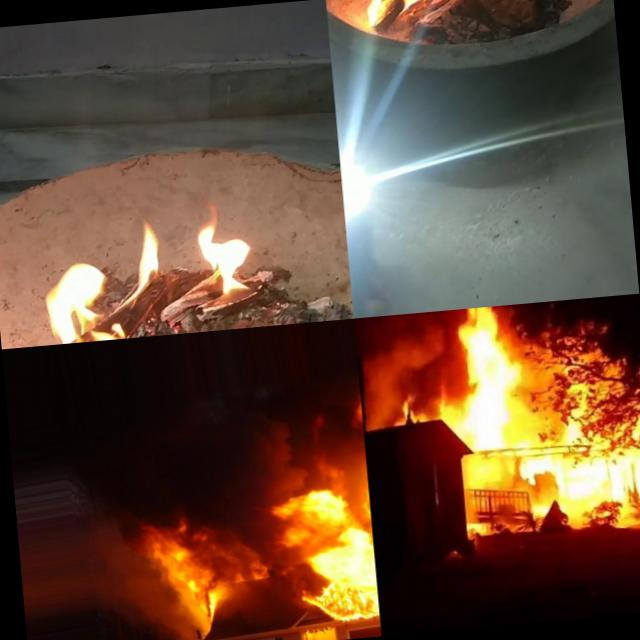fire: (27, 208, 262, 346), (442, 302, 544, 462), (272, 490, 380, 628), (357, 0, 511, 40), (141, 511, 217, 578), (304, 404, 349, 494), (390, 381, 453, 426), (216, 554, 278, 592), (184, 572, 220, 618)
smoke: (248, 406, 308, 498), (114, 578, 188, 626), (96, 514, 148, 582), (176, 614, 212, 640)
